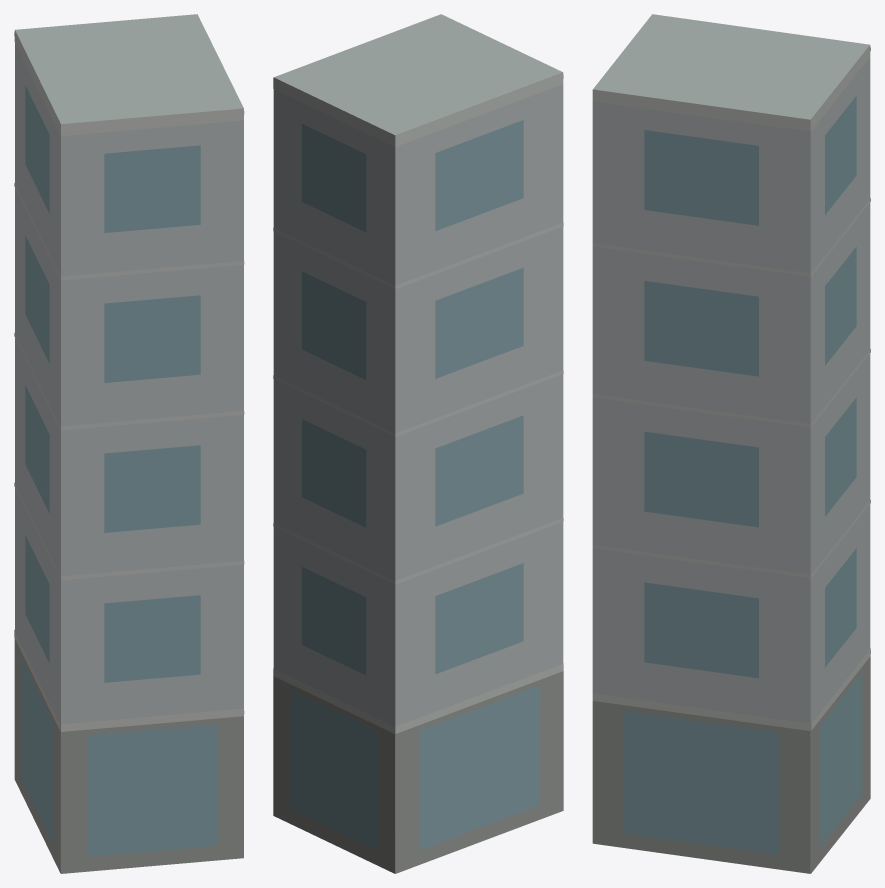
Rendered from survey-upis-32818599.glb.
3 views of the same model, side by side, from view 1: azimuth 30°, elevation 25°; view 2: azimuth 150°, elevation 25°; view 3: azimuth 270°, elevation 25° (orthographic). The views are drawn at different scales.
Parts seen in each view (by area): view 1: survey-upis-32818599.tmp; view 2: survey-upis-32818599.tmp; view 3: survey-upis-32818599.tmp.
Boxes of the visible parts, box(x1,y1,x2,y2) form: survey-upis-32818599.tmp: box(14, 14, 244, 873); survey-upis-32818599.tmp: box(273, 14, 563, 873); survey-upis-32818599.tmp: box(592, 14, 870, 873).
Size of the model in its own units: 4.61 by 15.25 by 5.11.
